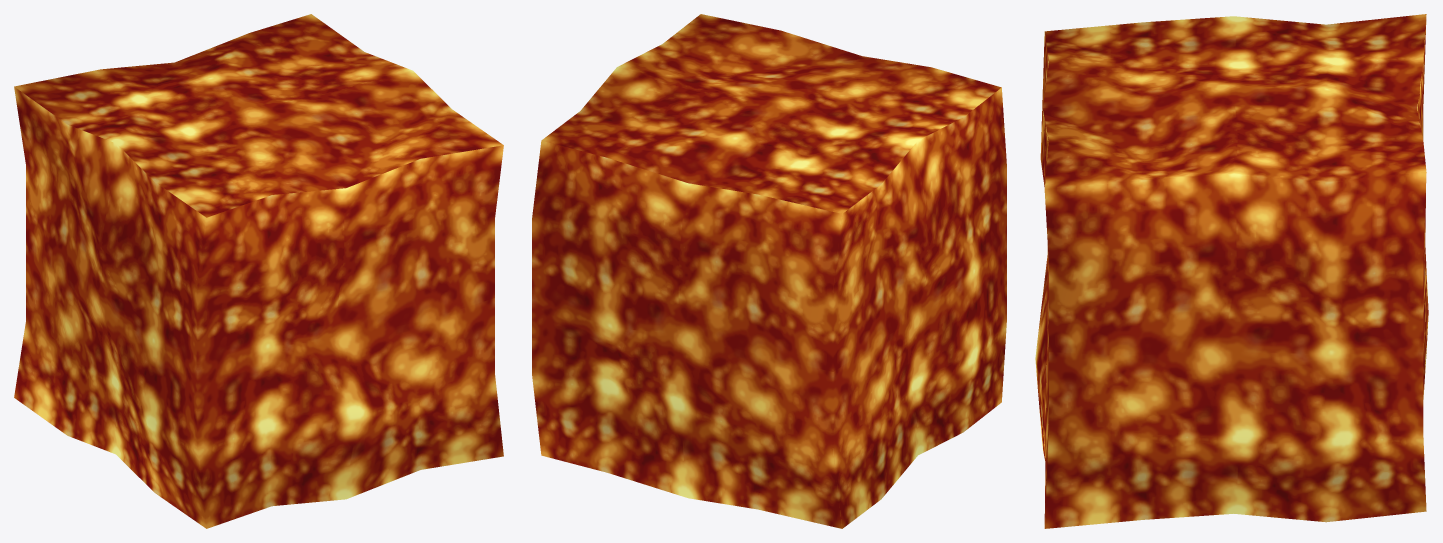
Rendered from lava.glb.
The picture shows the model from 3 angles, left to right: view 1: azimuth 30°, elevation 25°; view 2: azimuth 150°, elevation 25°; view 3: azimuth 270°, elevation 25°; orthographic projection. The views are drawn at different scales.
Parts seen in each view (by area): view 1: Cube.001; view 2: Cube.001; view 3: Cube.001.
Boxes of the visible parts, box(x1,y1,x2,y2) form: Cube.001: box(14, 14, 503, 528); Cube.001: box(532, 14, 1006, 528); Cube.001: box(1035, 14, 1428, 528).
Bounding box in the file's own units: 1.07 × 1.06 × 1.05.
Materials: 1 (1 with a texture image).
